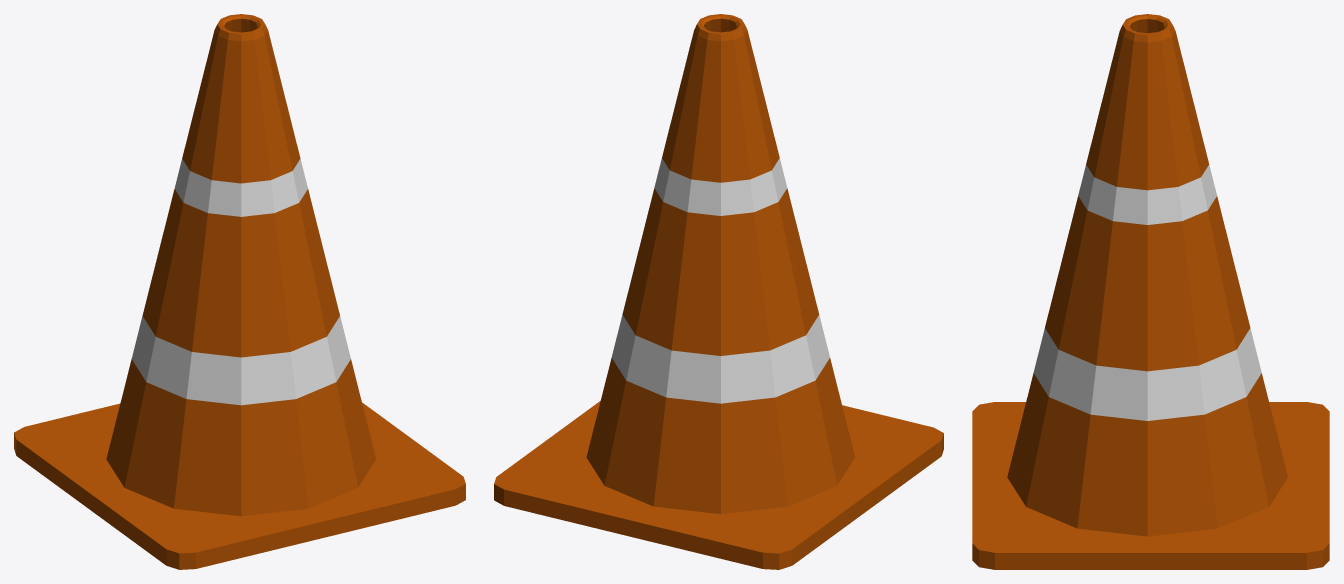
File: SafetyCone.fbx
3 renders of one model, left to right at view 1: azimuth 30°, elevation 25°; view 2: azimuth 150°, elevation 25°; view 3: azimuth 270°, elevation 25°, orthographic. The views are drawn at different scales.
Visible parts, largest first — view 1: SafetyCone; view 2: SafetyCone; view 3: SafetyCone.
Boxes of the visible parts, x1=… form: SafetyCone: x1=14, y1=14, x2=465, y2=569; SafetyCone: x1=494, y1=14, x2=943, y2=569; SafetyCone: x1=972, y1=14, x2=1329, y2=569.
Bounding box in the file's own units: 154 × 223 × 154.
